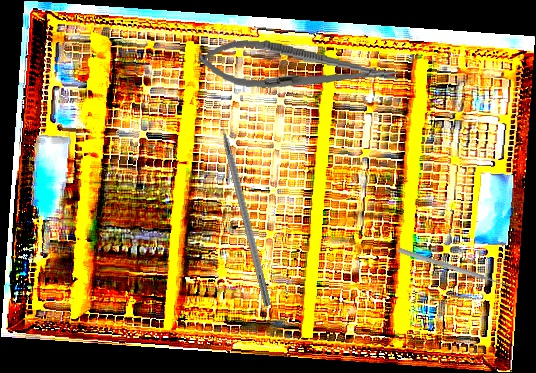Hook Surgical: (214, 106, 274, 307)
Needle Holder: (196, 34, 400, 102)
Pusher: (397, 246, 513, 291)
